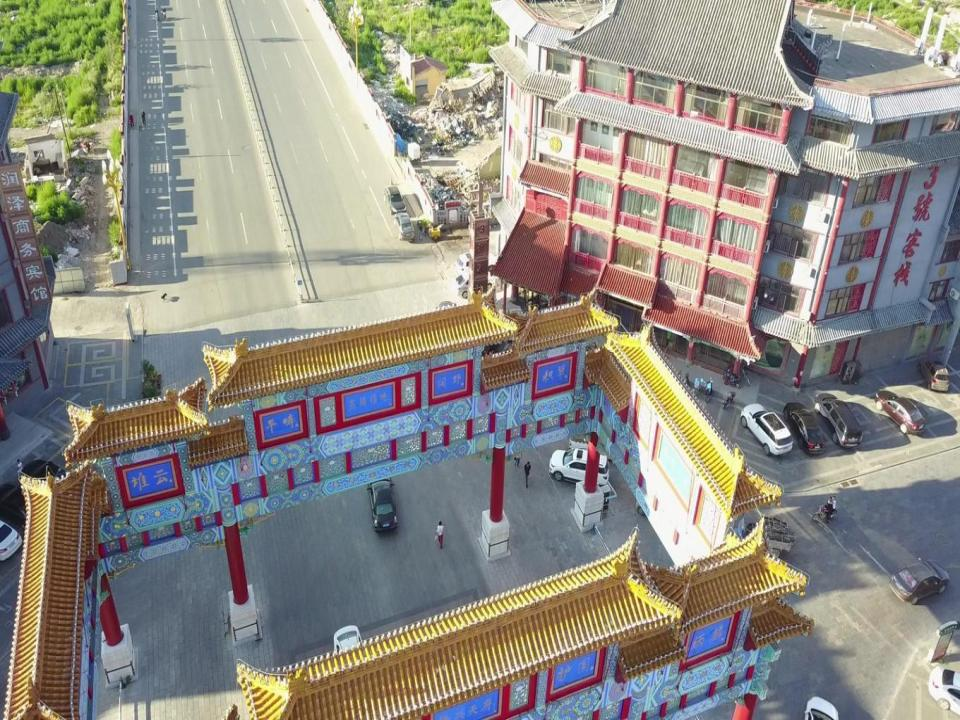car: (889, 557, 949, 605), (740, 403, 792, 457), (332, 625, 370, 698), (20, 459, 80, 504), (549, 449, 610, 489), (635, 477, 695, 517), (874, 390, 926, 436), (783, 402, 826, 454), (0, 482, 44, 526), (366, 472, 398, 532), (927, 664, 960, 717), (436, 300, 458, 355), (917, 356, 949, 392), (454, 249, 498, 275), (453, 272, 496, 298), (0, 519, 23, 561), (802, 696, 839, 720), (383, 186, 407, 216), (393, 213, 415, 241)
van: (814, 392, 862, 449)
